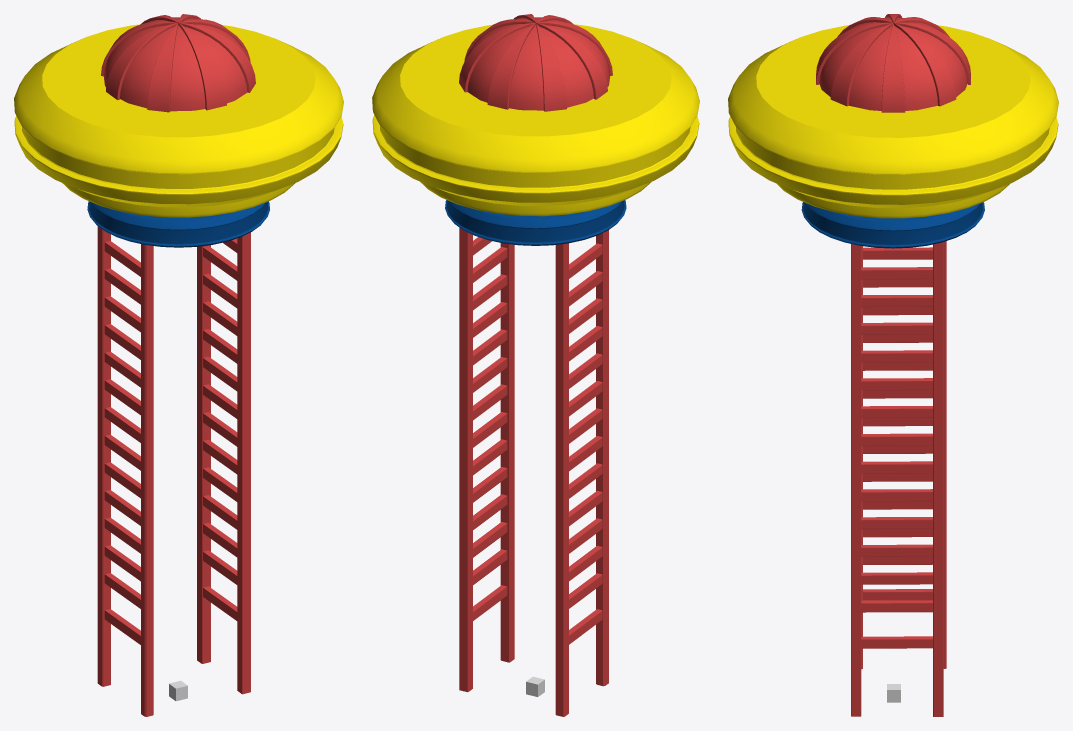
Rendered from TallBulding.glb.
The picture shows the model from 3 angles, left to right: view 1: azimuth 30°, elevation 25°; view 2: azimuth 150°, elevation 25°; view 3: azimuth 270°, elevation 25°; orthographic projection.
Parts seen in each view (by area): view 1: TallBulding; view 2: TallBulding; view 3: TallBulding.
Boxes of the visible parts, x1,y1,x2,y2 form: TallBulding: (14, 14, 343, 716); TallBulding: (372, 14, 699, 716); TallBulding: (728, 14, 1058, 716).
Bounding box in the file's own units: 47.14 × 106 × 47.14.
